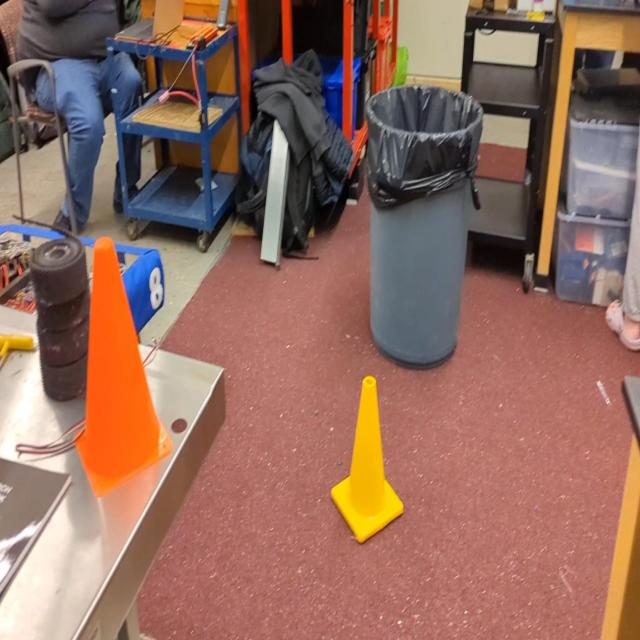frc_cone: (332, 374, 404, 546)
